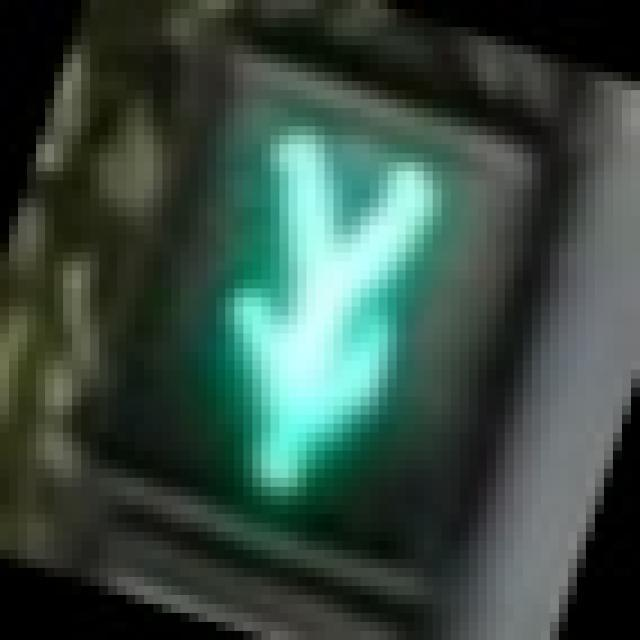geen-crossing: (90, 54, 523, 559)
